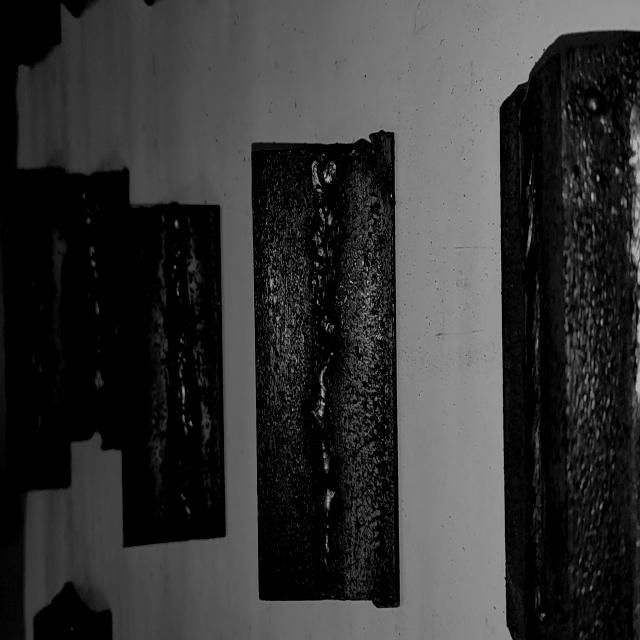Bad Weld: (310, 155, 337, 589), (166, 220, 194, 530)
Defect: (162, 222, 200, 526), (302, 362, 342, 590), (300, 172, 344, 343), (26, 181, 44, 471)
Good Weld: (522, 90, 542, 624), (81, 196, 104, 424)
